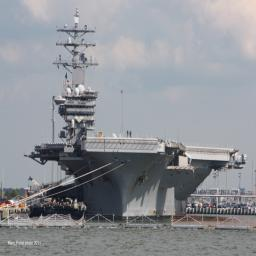Portanaves: (27, 5, 249, 224)
